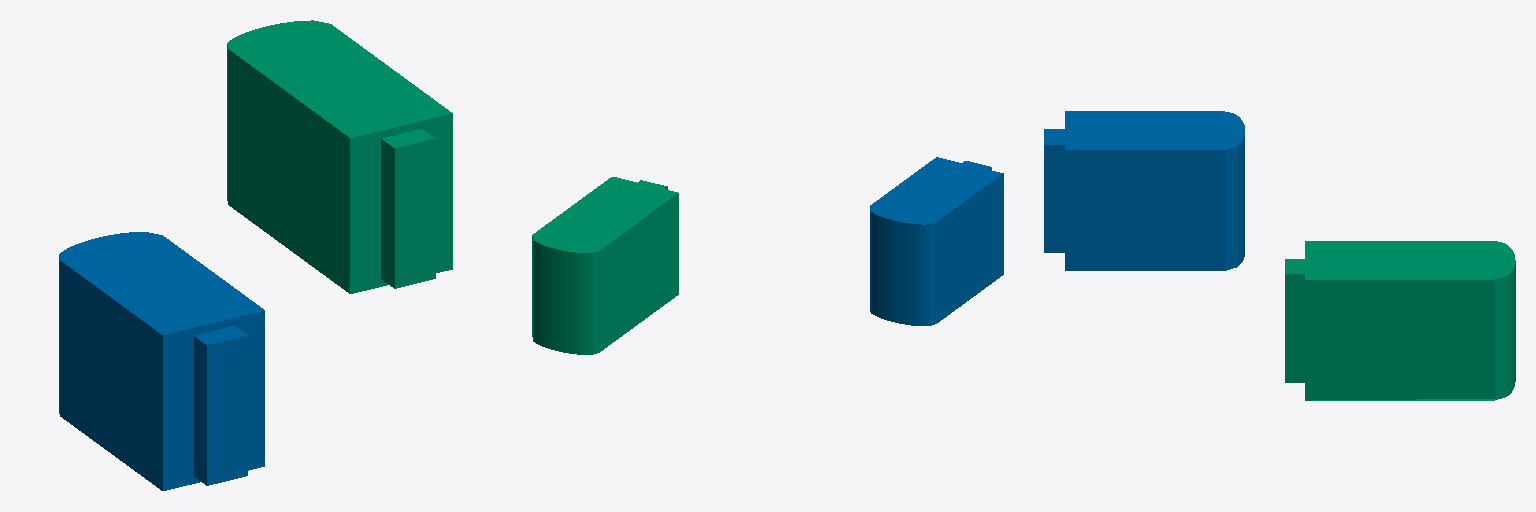
The robot description file, URDF, robot "3v3_40.35.25_30.30.40_1.1_73":
<?xml version="1.0" ?>
<robot name="3v3_40.35.25_30.30.40_1.1_73">

    <link name="palm">
        <visual>
            <origin rpy="0 0 0" xyz="0 0 0"/>
            <geometry>
                <mesh filename="obj_files/palm.obj" scale="1 1 1"/>
            </geometry>
        </visual>
        <collision>
            <geometry>
                <mesh filename="obj_files/palm_collision.obj" scale="1 1 1"/>
            </geometry>
        </collision>
    </link>

    <link name="finger0_segment0">
        <visual>
            <origin rpy="0 0 0" xyz="0 0 0"/>
            <geometry>
                <mesh filename="obj_files/finger0_segment0.obj" scale="1 1 1"/>
            </geometry>
        </visual>
        <collision>
            <geometry>
                <mesh filename="obj_files/finger0_segment0_collision.obj" scale="1 1 1"/>
            </geometry>
        </collision>
    </link>

    <joint name="finger0_segment0_joint" type="revolute">
        <parent link="palm"/>
        <child link="finger0_segment0"/>
        <origin rpy="0 0 0" xyz="0.03675 0 0.0"/>
        <axis xyz="0 0 1"/>
        <limit effort="1000.0" lower="-3.14" upper="3.14" velocity="0.5"/>
    </joint>

    <link name="finger0_segment1">
        <visual>
            <origin rpy="0 0 0" xyz="0 0 0"/>
            <geometry>
                <mesh filename="obj_files/finger0_segment1.obj" scale="1 1 1"/>
            </geometry>
        </visual>
        <collision>
            <geometry>
                <mesh filename="obj_files/finger0_segment1_collision.obj" scale="1 1 1"/>
            </geometry>
        </collision>
    </link>

    <joint name="finger0_segment1_joint" type="revolute">
        <parent link="finger0_segment0"/>
        <child link="finger0_segment1"/>
        <origin rpy="0 0 0" xyz="0 0.0576 0"/>
        <axis xyz="0 0 1"/>
        <limit effort="1000.0" lower="-3.14" upper="3.14" velocity="0.5"/>
    </joint>

    <link name="finger0_segment2">
        <visual>
            <origin rpy="0 0 0" xyz="0 0 0"/>
            <geometry>
                <mesh filename="obj_files/finger0_segment2.obj" scale="1 1 1"/>
            </geometry>
        </visual>
        <collision>
            <geometry>
                <mesh filename="obj_files/finger0_segment2_collision.obj" scale="1 1 1"/>
            </geometry>
        </collision>
    </link>

    <joint name="finger0_segment2_joint" type="revolute">
        <parent link="finger0_segment1"/>
        <child link="finger0_segment2"/>
        <origin rpy="0 0 0" xyz="0 0.0504 0"/>
        <axis xyz="0 0 1"/>
        <limit effort="1000.0" lower="-3.14" upper="3.14" velocity="0.5"/>
    </joint>

    <link name="finger1_segment0">
        <visual>
            <origin rpy="0 0 0" xyz="0 0 0"/>
            <geometry>
                <mesh filename="obj_files/finger1_segment0.obj" scale="1 1 1"/>
            </geometry>
        </visual>
        <collision>
            <geometry>
                <mesh filename="obj_files/finger1_segment0_collision.obj" scale="1 1 1"/>
            </geometry>
        </collision>
    </link>

    <joint name="finger1_segment0_joint" type="revolute">
        <parent link="palm"/>
        <child link="finger1_segment0"/>
        <origin rpy="0 0 0" xyz="-0.03675 0 4.500576986866523e-18"/>
        <axis xyz="0 0 1"/>
        <limit effort="1000.0" lower="-3.14" upper="3.14" velocity="0.5"/>
    </joint>

    <link name="finger1_segment1">
        <visual>
            <origin rpy="0 0 0" xyz="0 0 0"/>
            <geometry>
                <mesh filename="obj_files/finger1_segment1.obj" scale="1 1 1"/>
            </geometry>
        </visual>
        <collision>
            <geometry>
                <mesh filename="obj_files/finger1_segment1_collision.obj" scale="1 1 1"/>
            </geometry>
        </collision>
    </link>

    <joint name="finger1_segment1_joint" type="revolute">
        <parent link="finger1_segment0"/>
        <child link="finger1_segment1"/>
        <origin rpy="0 0 0" xyz="0 0.043199999999999995 0"/>
        <axis xyz="0 0 1"/>
        <limit effort="1000.0" lower="-3.14" upper="3.14" velocity="0.5"/>
    </joint>

    <link name="finger1_segment2">
        <visual>
            <origin rpy="0 0 0" xyz="0 0 0"/>
            <geometry>
                <mesh filename="obj_files/finger1_segment2.obj" scale="1 1 1"/>
            </geometry>
        </visual>
        <collision>
            <geometry>
                <mesh filename="obj_files/finger1_segment2_collision.obj" scale="1 1 1"/>
            </geometry>
        </collision>
    </link>

    <joint name="finger1_segment2_joint" type="revolute">
        <parent link="finger1_segment1"/>
        <child link="finger1_segment2"/>
        <origin rpy="0 0 0" xyz="0 0.043199999999999995 0"/>
        <axis xyz="0 0 1"/>
        <limit effort="1000.0" lower="-3.14" upper="3.14" velocity="0.5"/>
    </joint>

</robot>

--- What the picture shows (computed from the rendered views, not written in the file) ---
3 views of the same robot in one strip: view 1: azimuth 30°, elevation 25°; view 2: azimuth 150°, elevation 25°; view 3: azimuth 270°, elevation 25° (orthographic).
Robot: 3v3_40.35.25_30.30.40_1.1_73 — 7 links, 6 joints (6 revolute); root link palm; default pose: all joints at 0.
Visible links, largest first — view 1: finger0_segment1, finger1_segment0; view 2: finger0_segment1, finger1_segment0; view 3: finger0_segment1, finger1_segment0.
Boxes of the visible links, box(x1,y1,x2,y2) form: finger0_segment1: box(227, 20, 452, 293); finger1_segment0: box(59, 232, 264, 490); finger0_segment1: box(532, 177, 678, 354); finger1_segment0: box(870, 157, 1003, 325); finger0_segment1: box(1285, 241, 1515, 400); finger1_segment0: box(1044, 111, 1244, 270).
Size in the robot's own frame: 0.0955 by 0.113 by 0.032 metres.
Meshes: 7 distinct files referenced, 2 mesh visuals loaded (2 OBJ); not drawn: 5 (reference not matched to a file when rendering).